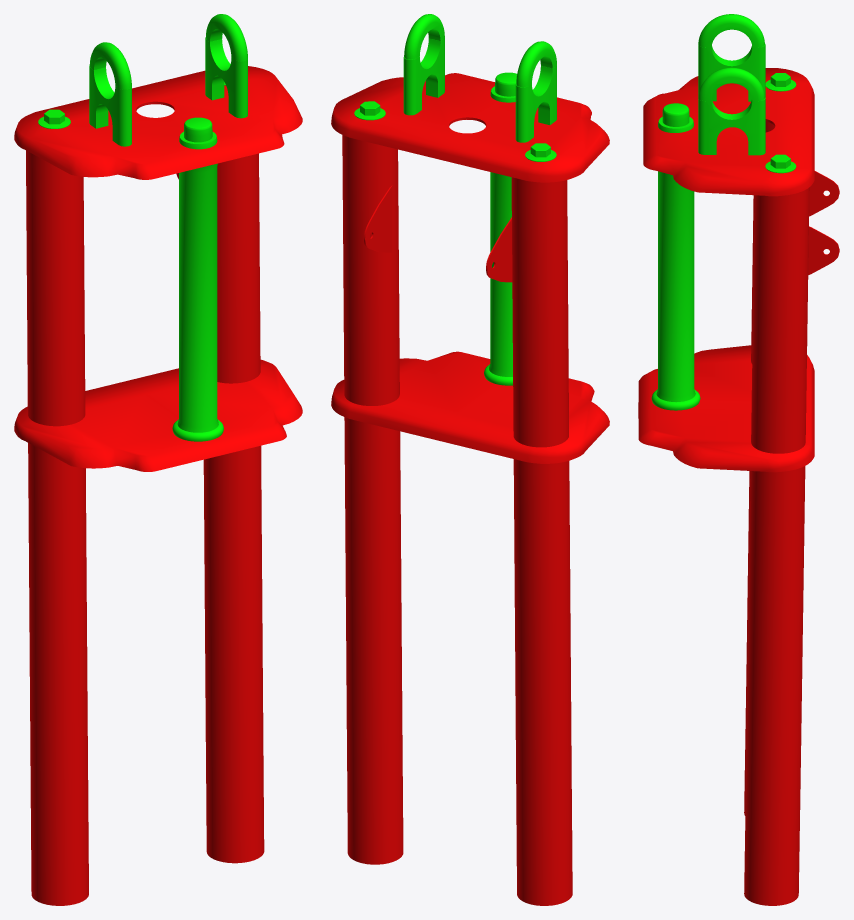
The model's file is Fork.fbx.
3 renders of one model, left to right at view 1: azimuth 30°, elevation 25°; view 2: azimuth 150°, elevation 25°; view 3: azimuth 270°, elevation 25°, orthographic. The views are drawn at different scales.
Visible parts, largest first — view 1: Fork; view 2: Fork; view 3: Fork.
Boxes of the visible parts, x1,y1,x2,y2 form: Fork: (14,14,302,905); Fork: (331,14,609,905); Fork: (638,14,839,905).
Bounding box in the file's own units: 180 × 580 × 130.
